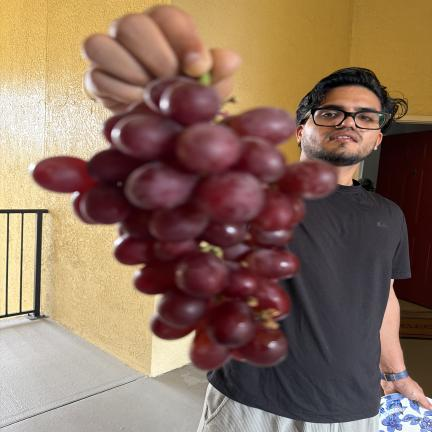grape_cluster: (32, 77, 337, 370)
